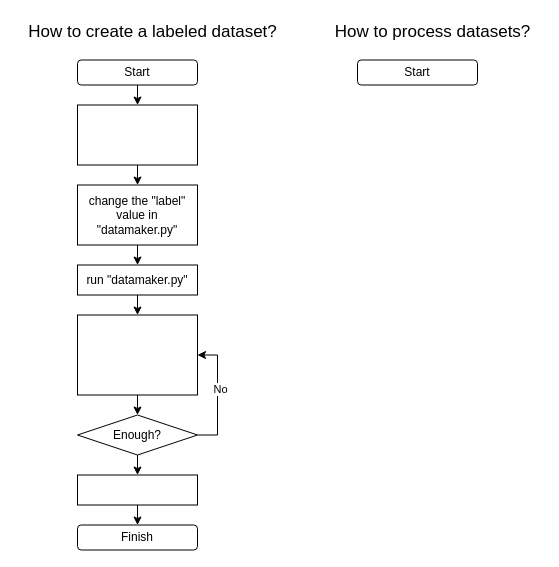
Image size: 559x567. Some labels were removed from this diagram. The shapes that lost their labels are listed below. From the top down, each one's box as (x1, y1, x2, y2) in pixels, then its label:
(76, 104, 198, 165): add the label u want to create to "labelmap.py"
(76, 314, 198, 395): press Space while u want to cap this frame as a datapoint
(76, 474, 198, 505): press Esc to exit()
